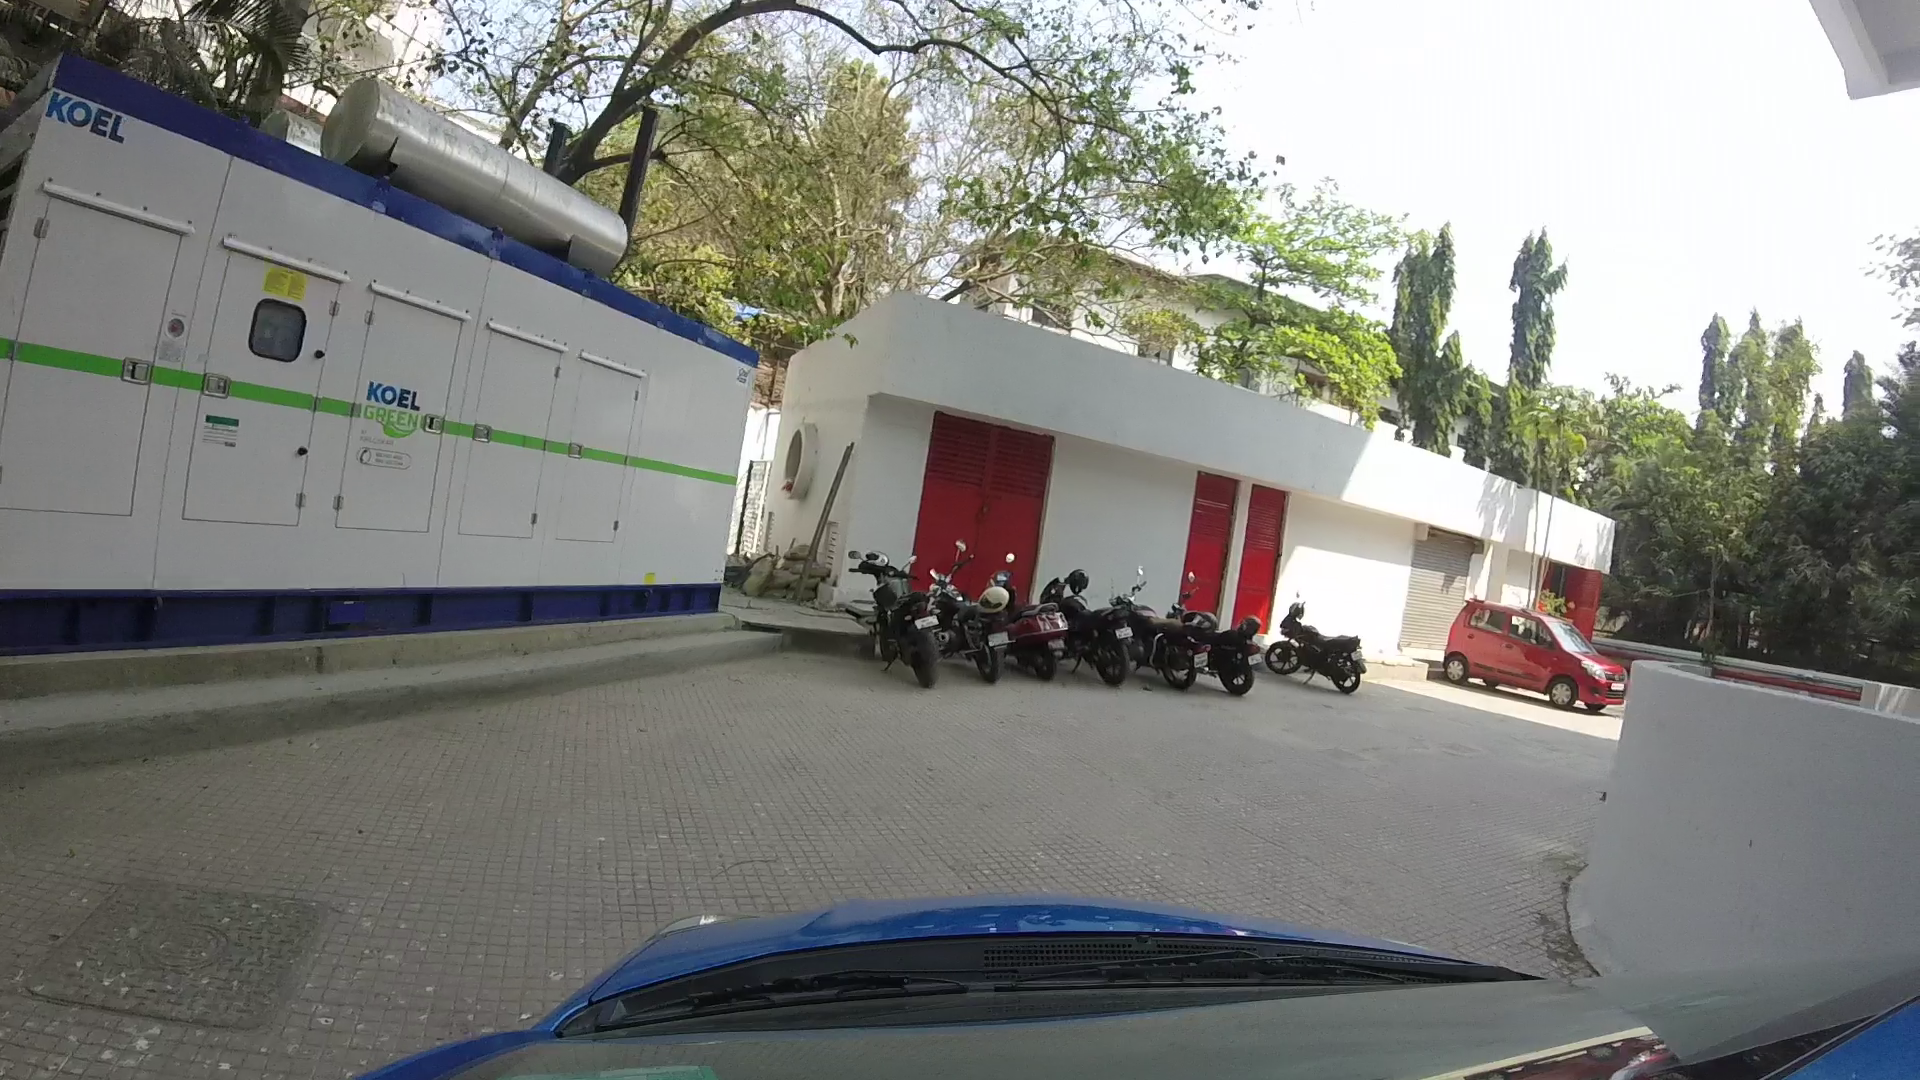bike/scooter: (835, 527, 952, 676), (1263, 568, 1365, 711), (1048, 556, 1145, 682), (934, 554, 1019, 680), (1116, 570, 1208, 684), (1178, 591, 1279, 692), (998, 568, 1073, 676)
car: (1433, 578, 1631, 723)
